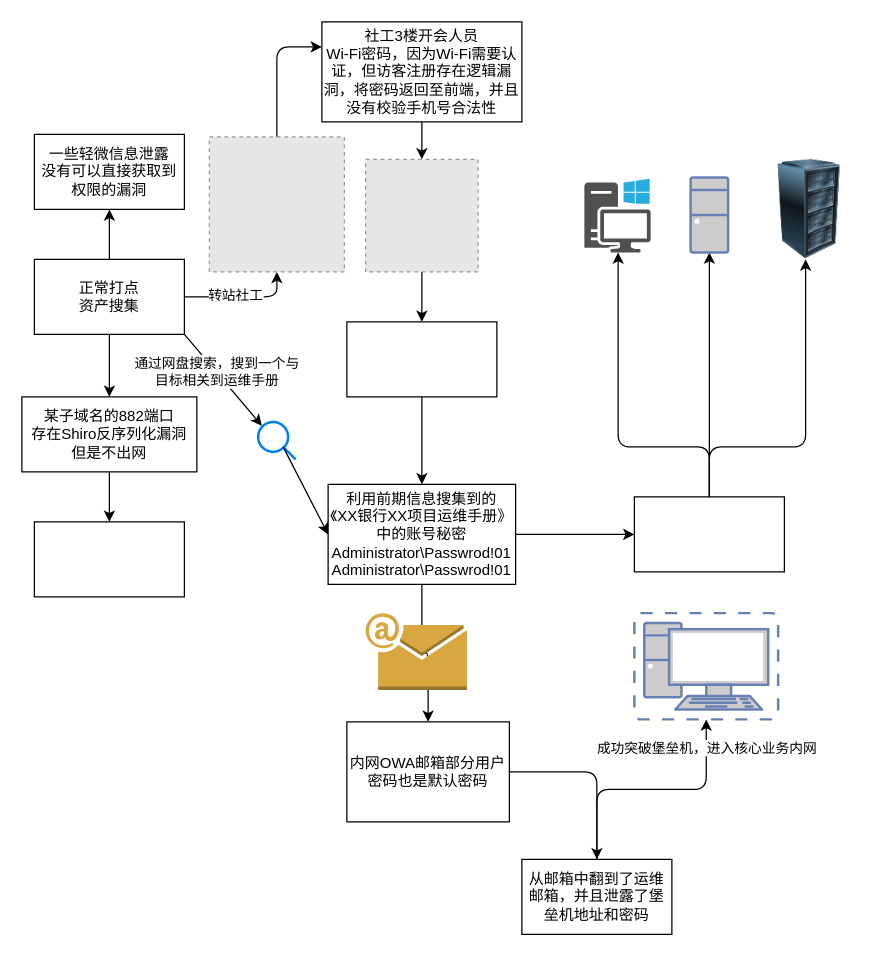
This 881x956 diagram has some shape labels left out. Grey dashed boxes stand in for pictures. The shapes that lost their labels are listed below. From the top down, each one's box as (x1, y1, x2, y2) in pixels, then its label:
(346, 321, 497, 397): 连上XXX-China-Wi-Fi 直接进入该银行总部办公网域环境
(633, 496, 784, 572): 利用密码喷射攻击 发现办公网域控也是默认密码
(33, 521, 184, 597): 没过半天被蓝队发现 将系统转移至内网
